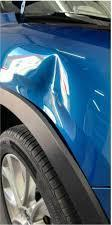dent: (9, 45, 87, 139)
